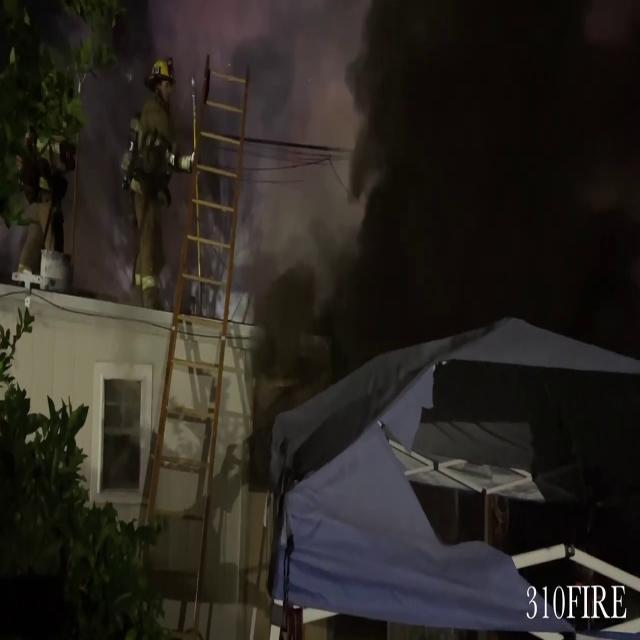Smoke: (55, 0, 378, 275)
